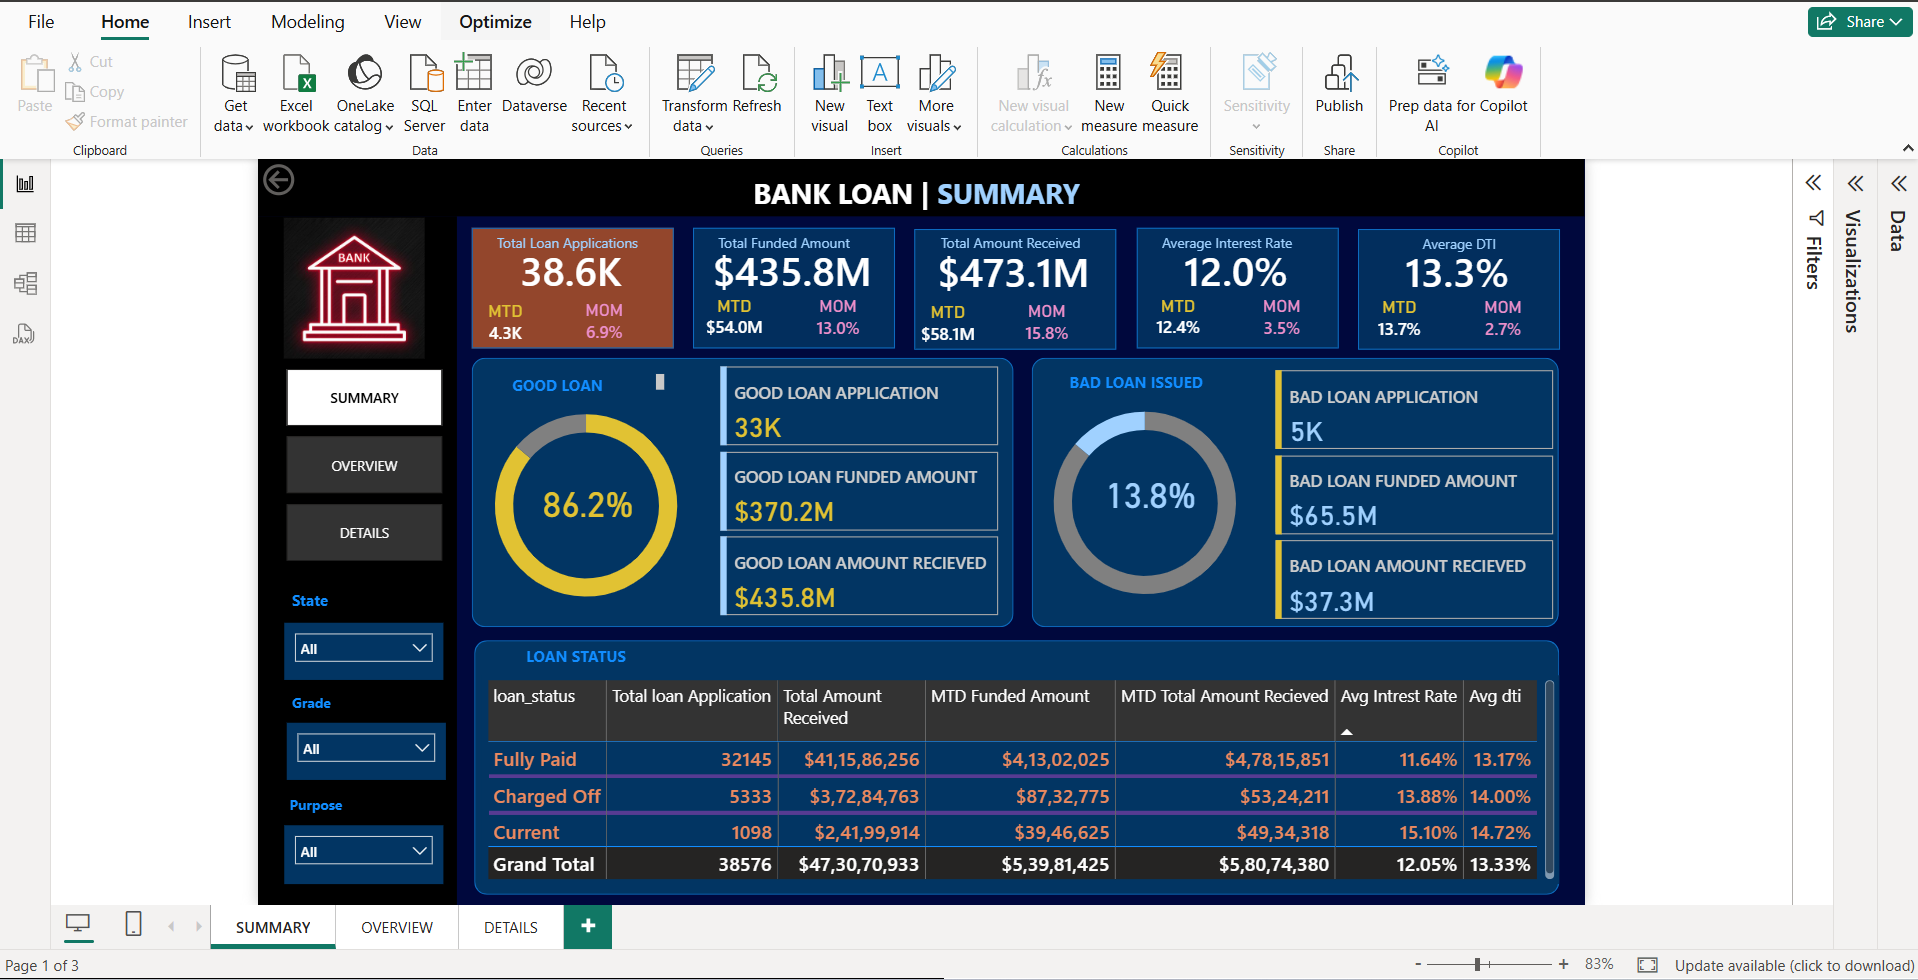

Layout of this report page (visuals, bound fields, positions):
{"tool":"powerbi","page":{"name":"SUMMARY","canvas":[1280,720],"ordinal":0},"visuals":[{"type":"shape","box":[0,0,1280,55.5],"z":0},{"type":"shape","box":[0,55.5,191.8,664.7],"z":1000},{"type":"textbox","box":[472.9,9.7,333,45.8],"z":2000},{"type":"group","id":"g1","title":"Group 1","box":[193.8,66.7,216.1,117.3],"z":3000},{"type":"shape","box":[206.1,66.7,195,116.5],"z":3000,"group":"g1"},{"type":"shape","box":[420,66.7,195,116.5],"z":3000,"group":"g2"},{"type":"shape","box":[847.8,66.7,195,116.5],"z":3000,"group":"g4"},{"type":"shape","box":[1061.7,67.9,195,116.5],"z":3000,"group":"g5"},{"type":"shape","box":[633.9,68.1,195,116.5],"z":3000,"group":"g3"},{"type":"group","id":"g2","title":"Group 1","box":[407.7,66.7,216.1,116],"z":4000},{"type":"card","fields":{"Values":["bank_loan_data.Total loan Application"]},"box":[193.8,72.8,215.8,69.9],"z":4000,"group":"g1"},{"type":"card","fields":{"Values":["bank_loan_data.Total_Funded_Amount"]},"box":[407.7,72.8,215.8,69.9],"z":4000,"group":"g2"},{"type":"card","fields":{"Values":["bank_loan_data.Avg Intrest Rate"]},"box":[835.5,72.8,215.8,69.9],"z":4000,"group":"g4"},{"type":"card","fields":{"Values":["bank_loan_data.Avg dti"]},"box":[1049.4,74,215.8,69.9],"z":4000,"group":"g5"},{"type":"card","fields":{"Values":["bank_loan_data.Total Amount Received"]},"box":[621.6,74.2,215.8,69.9],"z":4000,"group":"g3"},{"type":"textbox","box":[225.7,66.7,157,34.3],"z":5000,"group":"g1"},{"type":"textbox","box":[439.6,66.7,157,34.3],"z":5000,"group":"g2"},{"type":"group","id":"g3","title":"Group 1","box":[621.6,66.7,216.1,118.5],"z":5000},{"type":"textbox","box":[654.1,66.7,160.5,35.8],"z":5000,"group":"g3"},{"type":"textbox","box":[867.4,66.7,157,34.3],"z":5000,"group":"g4"},{"type":"textbox","box":[1081.3,67.9,157,34.3],"z":5000,"group":"g5"},{"type":"textbox","box":[778.6,200,157,34.3],"z":5000,"group":"g7"},{"type":"textbox","box":[240,202.9,157,34.3],"z":5000,"group":"g6"},{"type":"textbox","box":[27.7,410.2,97,37.2],"z":5000,"group":"g9"},{"type":"textbox","box":[250,464.3,157,34.3],"z":5000,"group":"g8"},{"type":"textbox","box":[27.7,510.3,171.2,34.3],"z":5000,"group":"g10"},{"type":"textbox","box":[25.3,609.3,171.2,34.3],"z":5000,"group":"g11"},{"type":"group","id":"g4","title":"Group 1","box":[835.5,66.7,216.1,116],"z":6000},{"type":"group","id":"g5","title":"Group 1","box":[1049.4,67.9,216.1,116],"z":7000},{"type":"card","title":"MTD","fields":{"Values":["bank_loan_data.MTD Funded Amount"]},"box":[427.2,131.6,65.4,46.9],"z":7000,"group":"g2"},{"type":"card","title":"MTD","fields":{"Values":["bank_loan_data.MTD Average Intrest Rate"]},"box":[855,131.6,65.4,46.9],"z":7000,"group":"g4"},{"type":"card","title":"MTD","fields":{"Values":["bank_loan_data.MTD Average DTI"]},"box":[1068.9,132.8,65.4,46.9],"z":7000,"group":"g5"},{"type":"card","title":"MTD","fields":{"Values":["bank_loan_data.MTD Loan Applications"]},"box":[206.1,136.6,65,47.8],"z":7000,"group":"g1"},{"type":"card","title":"MTD","fields":{"Values":["bank_loan_data.MTD Total Amount Recieved"]},"box":[633.9,138,65,47.8],"z":7000,"group":"g3"},{"type":"shape","box":[747.1,191.4,508.6,260],"z":8000},{"type":"card","title":"MOM","fields":{"Values":["bank_loan_data.MoM Funded Amount"]},"box":[527.2,131.6,65.4,48.1],"z":8001,"group":"g2"},{"type":"card","title":"MOM","fields":{"Values":["bank_loan_data.MoM Average Intrest Rate"]},"box":[955,131.6,65.4,48.1],"z":8001,"group":"g4"},{"type":"card","title":"MOM","fields":{"Values":["bank_loan_data.MoM Average DTI"]},"box":[1168.9,132.8,65.4,48.1],"z":8001,"group":"g5"},{"type":"card","title":"MOM","fields":{"Values":["bank_loan_data.MoM Loan Application"]},"box":[301.3,135.1,65.4,48.1],"z":8001,"group":"g1"},{"type":"card","title":"MOM","fields":{"Values":["bank_loan_data.MoM Total Amount Recieved"]},"box":[729.1,136.5,65.4,48.1],"z":8001,"group":"g3"},{"type":"shape","box":[205.7,191.4,522.9,260],"z":9000},{"type":"card","fields":{"Values":["bank_loan_data.Good Loan %"]},"box":[252.9,295.7,130,70],"z":10000},{"type":"donutChart","fields":{"Category":["bank_loan_data.Good vs Bad Loan"],"Y":["bank_loan_data.Total loan Application"]},"box":[191.4,220,250,230],"z":11000},{"type":"group","id":"g6","title":"Group 1","box":[240,202.9,157.1,34.3],"z":12000},{"type":"actionButton","box":[0,0,100,40],"z":13000},{"type":"cardVisual","fields":{"Data":["bank_loan_data.GOOD LOAN APPLICATION","bank_loan_data.GOOD LOAN FUNDED AMOUNT","bank_loan_data.GOOD LOAN AMOUNT RECIEVED"]},"box":[441.4,195.7,278.6,252.9],"z":14000},{"type":"donutChart","fields":{"Category":["bank_loan_data.Good vs Bad Loan"],"Y":["bank_loan_data.Total loan Application"]},"box":[731.4,217.1,250,230],"z":15000},{"type":"group","id":"g7","title":"Group 1","box":[778.6,200,157.1,34.3],"z":16000},{"type":"cardVisual","fields":{"Data":["bank_loan_data.BAD LOAN APPLICATION","bank_loan_data.BAD LOAN FUNDED AMOUNT","bank_loan_data.BAD LOAN AMOUNT RECIEVED"]},"box":[977.1,198.6,278.6,252.9],"z":17000},{"type":"card","fields":{"Values":["bank_loan_data.Bad Loan %"]},"box":[795.7,287.1,130,70],"z":18000},{"type":"shape","box":[208.6,464.3,1047.1,245.7],"z":19000},{"type":"tableEx","fields":{"Values":["bank_loan_data.loan_status","bank_loan_data.Total loan Application","bank_loan_data.Total Amount Received","bank_loan_data.MTD Funded Amount","bank_loan_data.MTD Total Amount Recieved","bank_loan_data.Avg Intrest Rate","bank_loan_data.Avg dti"]},"box":[215.7,498.6,1040,201.4],"z":20000},{"type":"group","id":"g8","title":"Group 1","box":[250,464.3,157.1,34.3],"z":21000},{"type":"slicer","fields":{"Values":["bank_loan_data.address_state"]},"box":[25.3,447.6,153.2,55.5],"z":22000},{"type":"group","id":"g9","title":"Group 1","box":[27.7,410.2,97.7,37.4],"z":23000},{"type":"slicer","fields":{"Values":["bank_loan_data.grade"]},"box":[27.7,544.1,153.2,55.5],"z":24000},{"type":"group","id":"g10","title":"Group 1","box":[27.7,510.3,171.3,33.8],"z":25000},{"type":"slicer","fields":{"Values":["bank_loan_data.purpose"]},"box":[25.3,643,153.2,56.7],"z":26000},{"type":"image","box":[7.2,51.9,171.3,146],"z":27000},{"type":"pageNavigator","box":[27.7,202.7,150.8,185.8],"z":28000},{"type":"group","id":"g11","title":"Group 1","box":[25.3,609.3,172.5,33.8],"z":29000}]}

Visuals, with their boxes on the page's 1280x720 design canvas (x1, y1, x2, y2). These are canvas units, not pixel positions in the 1918x980 screenshot, which may show the page scaled, cropped or inside an application window:
shape: (0,0,1280,56)
shape: (0,56,192,720)
textbox: (473,10,806,56)
"Group 1" group: (194,67,410,184)
shape: (206,67,401,183)
shape: (420,67,615,183)
shape: (848,67,1043,183)
shape: (1062,68,1257,184)
shape: (634,68,829,185)
"Group 1" group: (408,67,624,183)
card - bank_loan_data.Total loan Application: (194,73,410,143)
card - bank_loan_data.Total_Funded_Amount: (408,73,624,143)
card - bank_loan_data.Avg Intrest Rate: (836,73,1051,143)
card - bank_loan_data.Avg dti: (1049,74,1265,144)
card - bank_loan_data.Total Amount Received: (622,74,837,144)
textbox: (226,67,383,101)
textbox: (440,67,597,101)
"Group 1" group: (622,67,838,185)
textbox: (654,67,815,102)
textbox: (867,67,1024,101)
textbox: (1081,68,1238,102)
textbox: (779,200,936,234)
textbox: (240,203,397,237)
textbox: (28,410,125,447)
textbox: (250,464,407,499)
textbox: (28,510,199,545)
textbox: (25,609,196,644)
"Group 1" group: (836,67,1052,183)
"Group 1" group: (1049,68,1266,184)
"MTD" card: (427,132,493,178)
"MTD" card: (855,132,920,178)
"MTD" card: (1069,133,1134,180)
"MTD" card: (206,137,271,184)
"MTD" card: (634,138,699,186)
shape: (747,191,1256,451)
"MOM" card: (527,132,593,180)
"MOM" card: (955,132,1020,180)
"MOM" card: (1169,133,1234,181)
"MOM" card: (301,135,367,183)
"MOM" card: (729,136,794,185)
shape: (206,191,729,451)
card - bank_loan_data.Good Loan %: (253,296,383,366)
donutChart - bank_loan_data.Good vs Bad Loan x bank_loan_data.Total loan Application: (191,220,441,450)
"Group 1" group: (240,203,397,237)
actionButton: (0,0,100,40)
cardVisual - bank_loan_data.GOOD LOAN APPLICATION x bank_loan_data.GOOD LOAN FUNDED AMOUNT: (441,196,720,449)
donutChart - bank_loan_data.Good vs Bad Loan x bank_loan_data.Total loan Application: (731,217,981,447)
"Group 1" group: (779,200,936,234)
cardVisual - bank_loan_data.BAD LOAN APPLICATION x bank_loan_data.BAD LOAN FUNDED AMOUNT: (977,199,1256,452)
card - bank_loan_data.Bad Loan %: (796,287,926,357)
shape: (209,464,1256,710)
tableEx - bank_loan_data.loan_status x bank_loan_data.Total loan Application: (216,499,1256,700)
"Group 1" group: (250,464,407,499)
slicer - bank_loan_data.address_state: (25,448,178,503)
"Group 1" group: (28,410,125,448)
slicer - bank_loan_data.grade: (28,544,181,600)
"Group 1" group: (28,510,199,544)
slicer - bank_loan_data.purpose: (25,643,178,700)
image: (7,52,178,198)
pageNavigator: (28,203,178,388)
"Group 1" group: (25,609,198,643)
